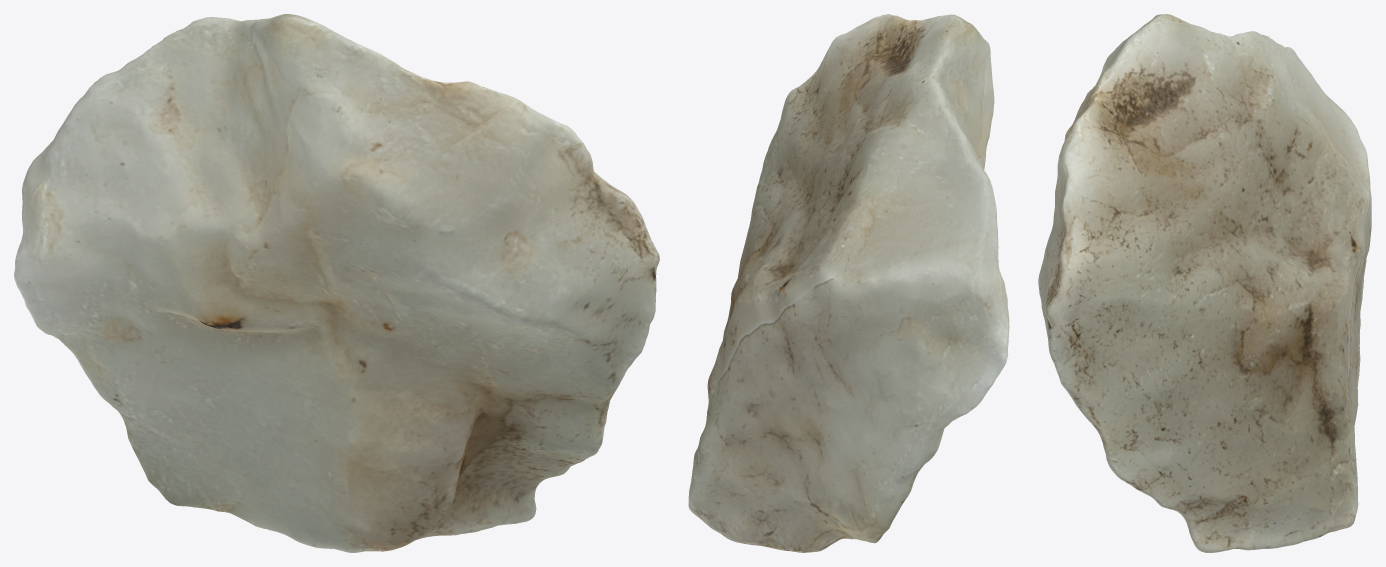
The model's file is quartz_biface.glb.
3 views of the same model, side by side, from view 1: azimuth 30°, elevation 25°; view 2: azimuth 150°, elevation 25°; view 3: azimuth 270°, elevation 25° (orthographic). The views are drawn at different scales.
Visible parts, largest first — view 1: Object_2; view 2: Object_2; view 3: Object_2.
Boxes of the visible parts, left/top/right/bottom form: Object_2: left=14, top=14, right=659, bottom=552; Object_2: left=688, top=14, right=1009, bottom=552; Object_2: left=1038, top=14, right=1371, bottom=552.
Bounding box in the file's own units: 0.7843 × 0.9912 × 0.6548.
Materials: 1 (1 with a texture image).
